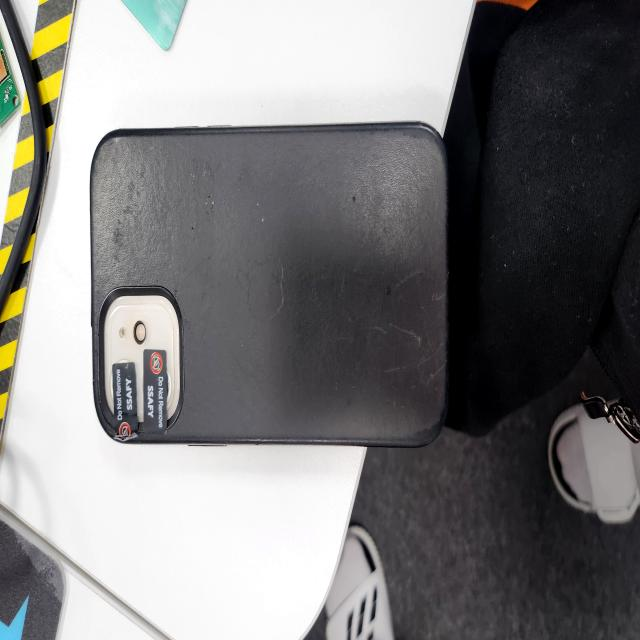phone: (88, 122, 450, 448)
sticker: (144, 348, 169, 438), (112, 360, 138, 440)
